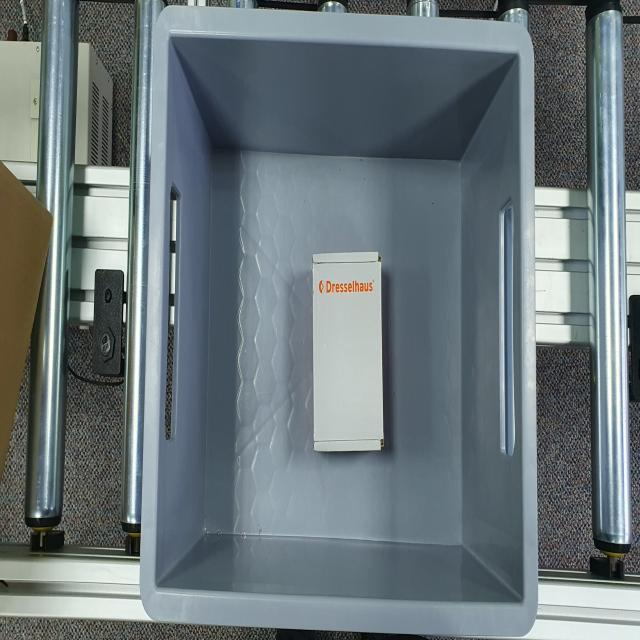box: (310, 252, 387, 457)
